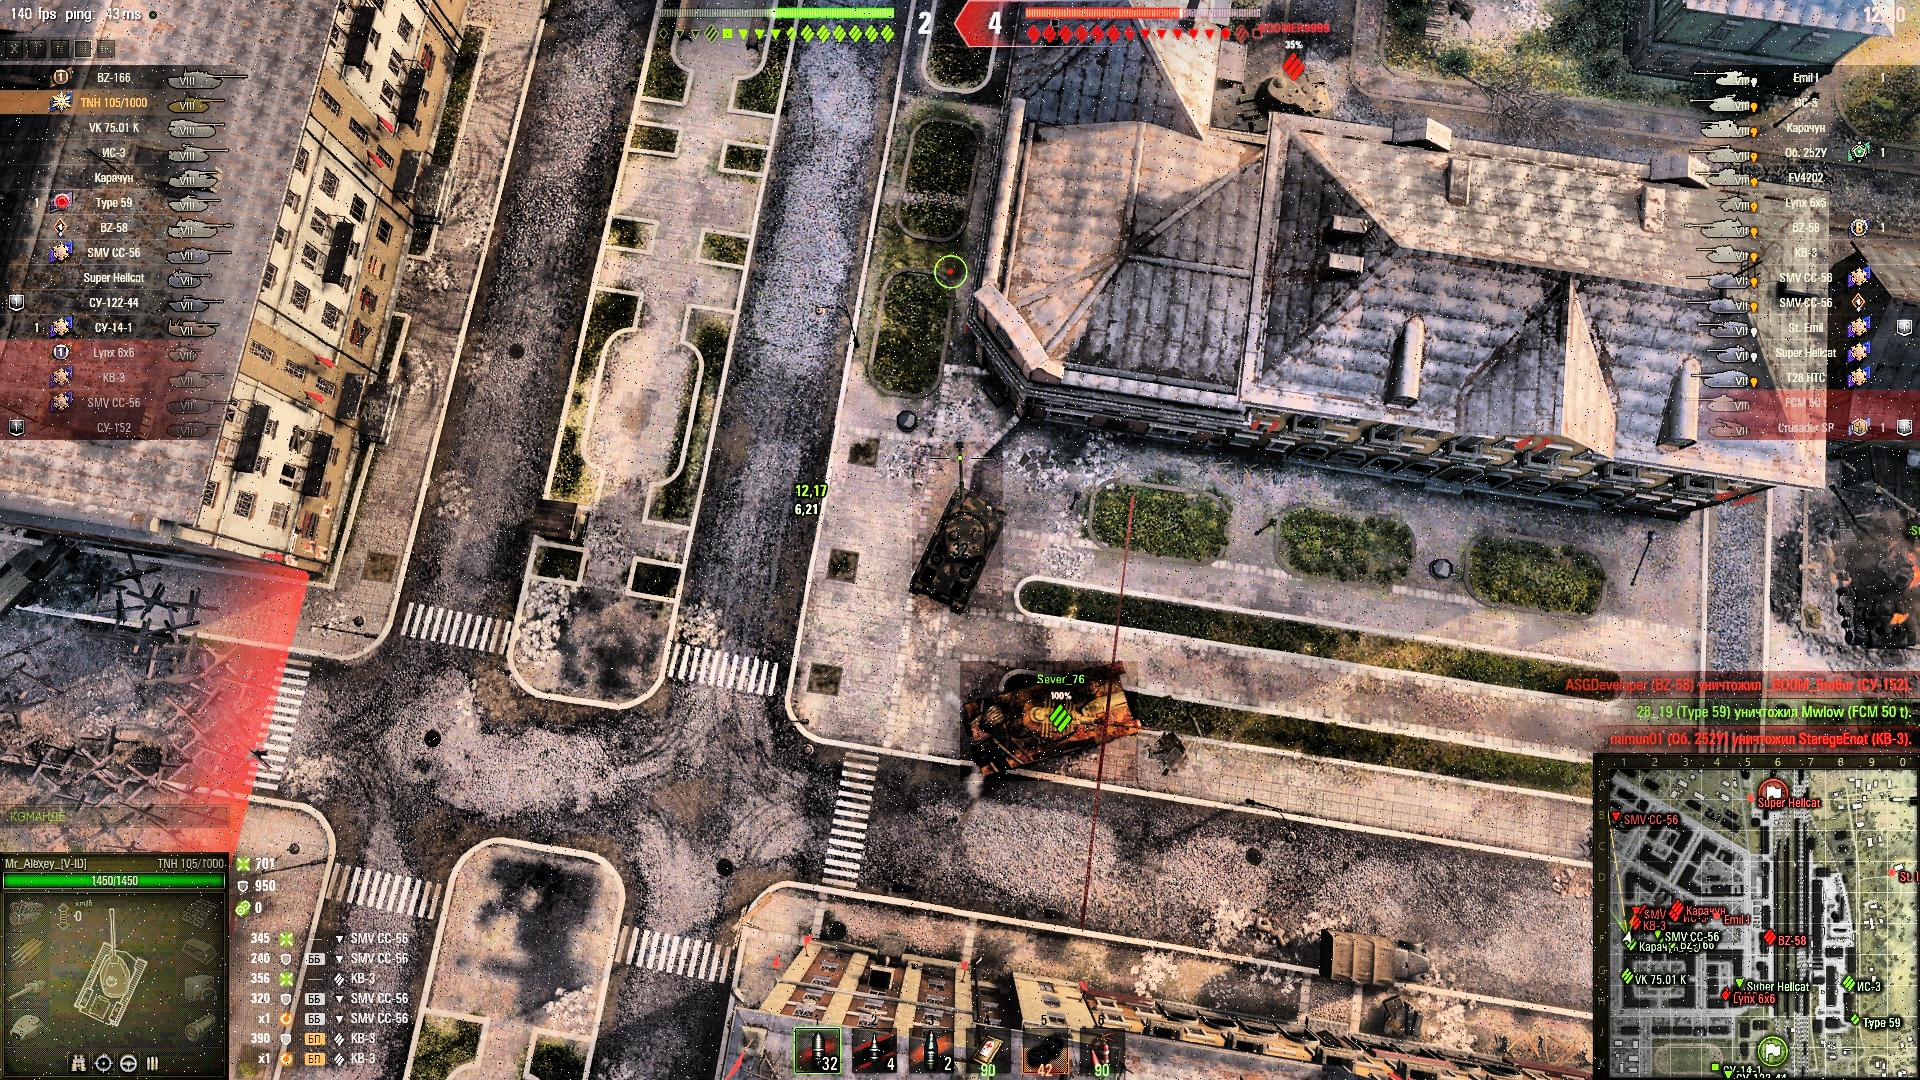military-vehicle: (960, 662, 1138, 782), (911, 442, 1004, 613)
